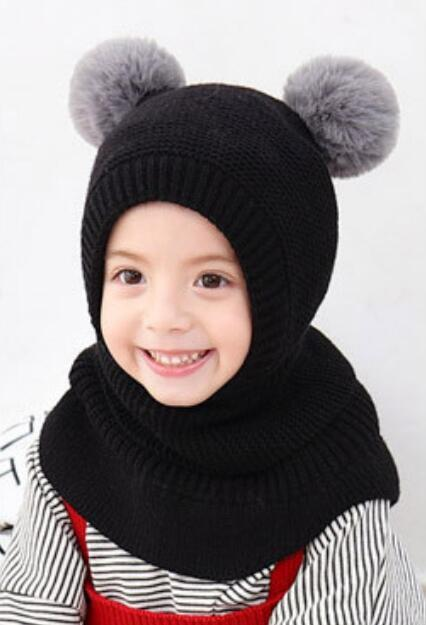cap: (22, 17, 407, 450)
